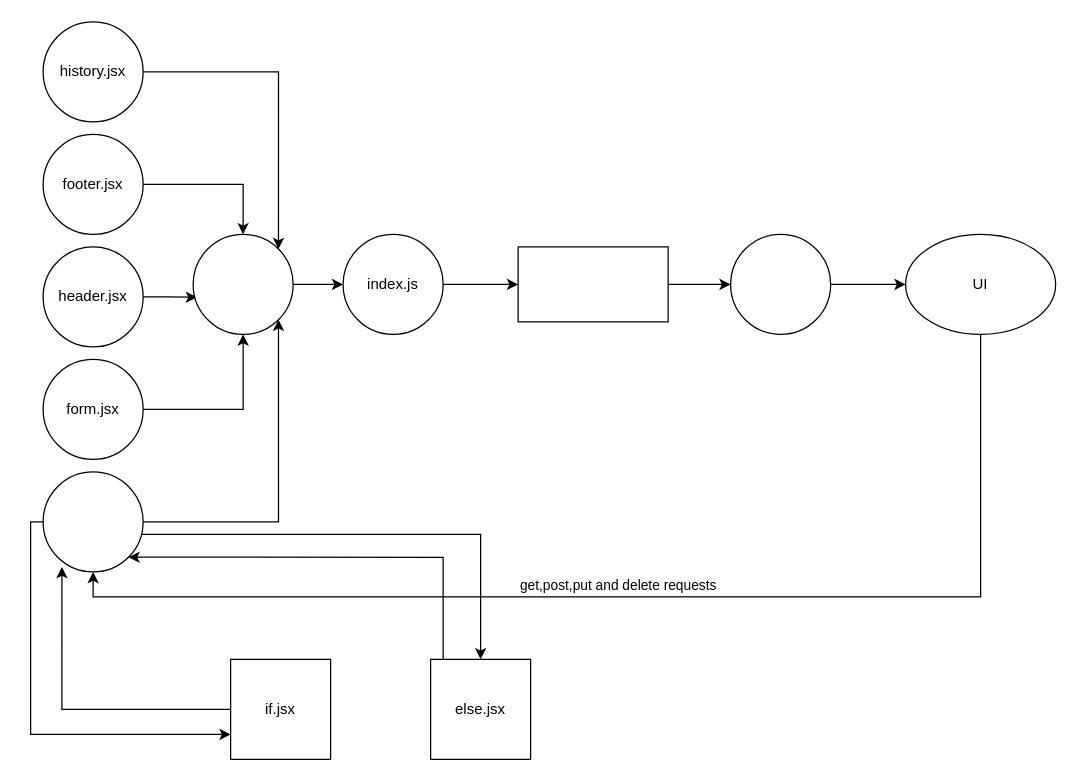
Image size: 1078x781. Some labels were removed from this diagram. The box of each missing label's shape, as (x1, y1, x2, y2) in pixels:
app.jsx: (192, 233, 293, 334)
index.html: (729, 233, 831, 334)
react: (517, 246, 668, 322)
results.jsx: (42, 471, 143, 572)
